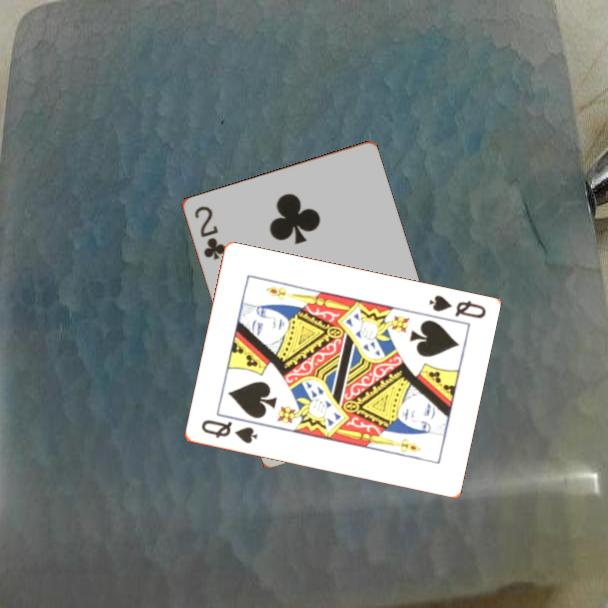c02: (190, 202, 228, 263)
s12: (197, 416, 260, 447), (425, 292, 489, 322)
